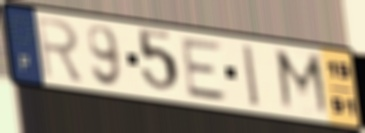5: (134, 26, 182, 99)
9: (86, 24, 125, 89)
E: (179, 36, 232, 104)
I: (240, 42, 263, 110)
M: (272, 46, 334, 121)
R: (34, 14, 87, 85)
